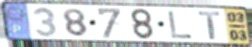3: (32, 6, 58, 38)
7: (96, 7, 122, 39)
8: (61, 8, 90, 37), (129, 8, 155, 40)
L: (167, 10, 195, 39)
T: (197, 11, 222, 41)
